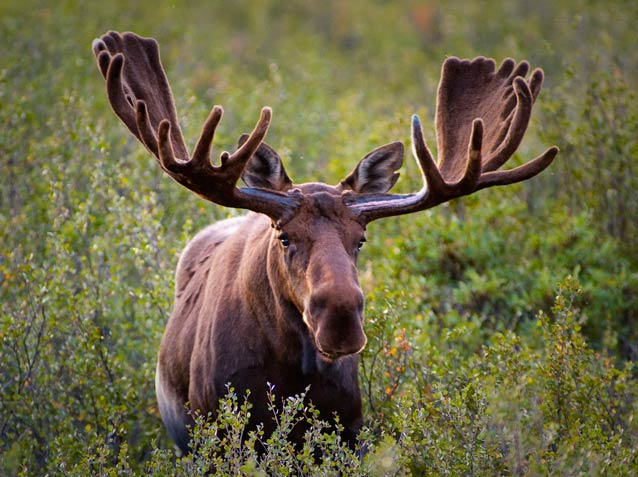moose: (73, 14, 575, 457)
